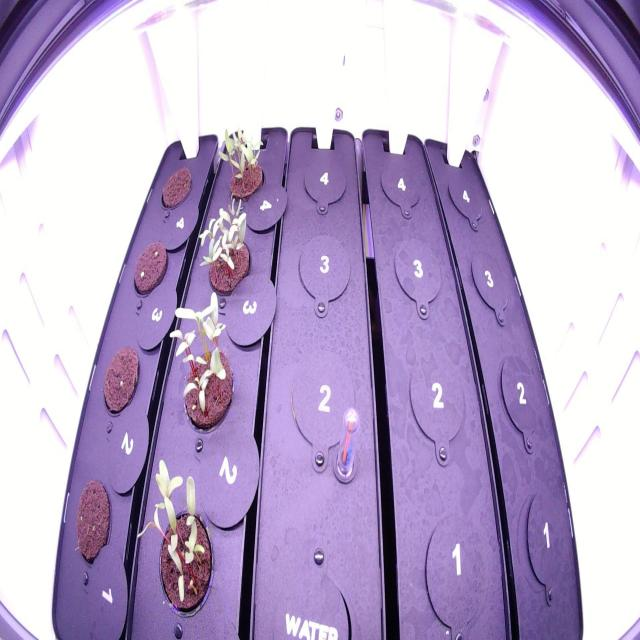empty_pod: (282, 345, 358, 467), (419, 508, 491, 635), (263, 551, 359, 639), (403, 344, 470, 466), (518, 479, 574, 609), (294, 226, 354, 320), (491, 347, 548, 444), (386, 230, 448, 313), (462, 239, 520, 327), (372, 146, 427, 221), (298, 145, 350, 214), (443, 160, 490, 232)
germination: (135, 458, 221, 621), (167, 291, 240, 438), (192, 191, 257, 302), (208, 120, 269, 207), (128, 229, 170, 302)
pod: (70, 472, 115, 575), (94, 339, 142, 425), (156, 158, 196, 217)
